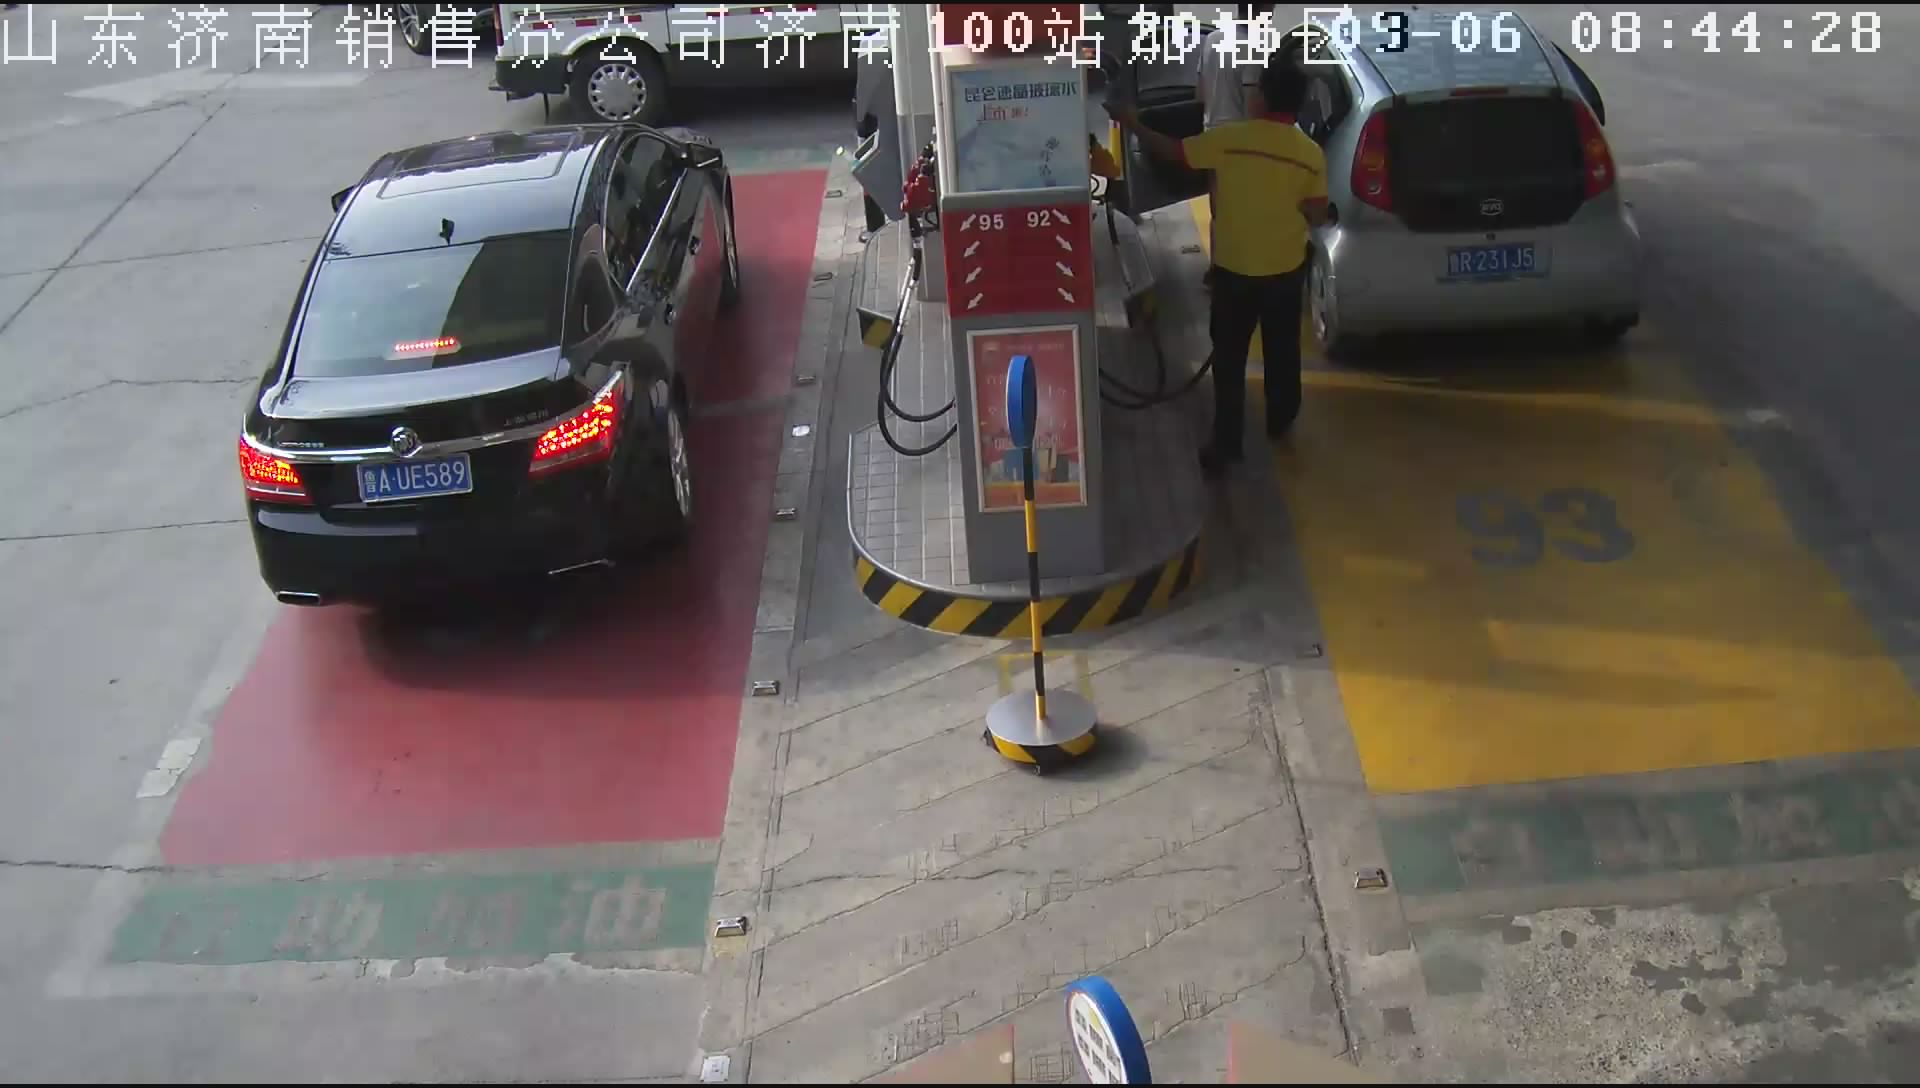blue: (356, 452, 475, 506), (1444, 243, 1538, 281)
